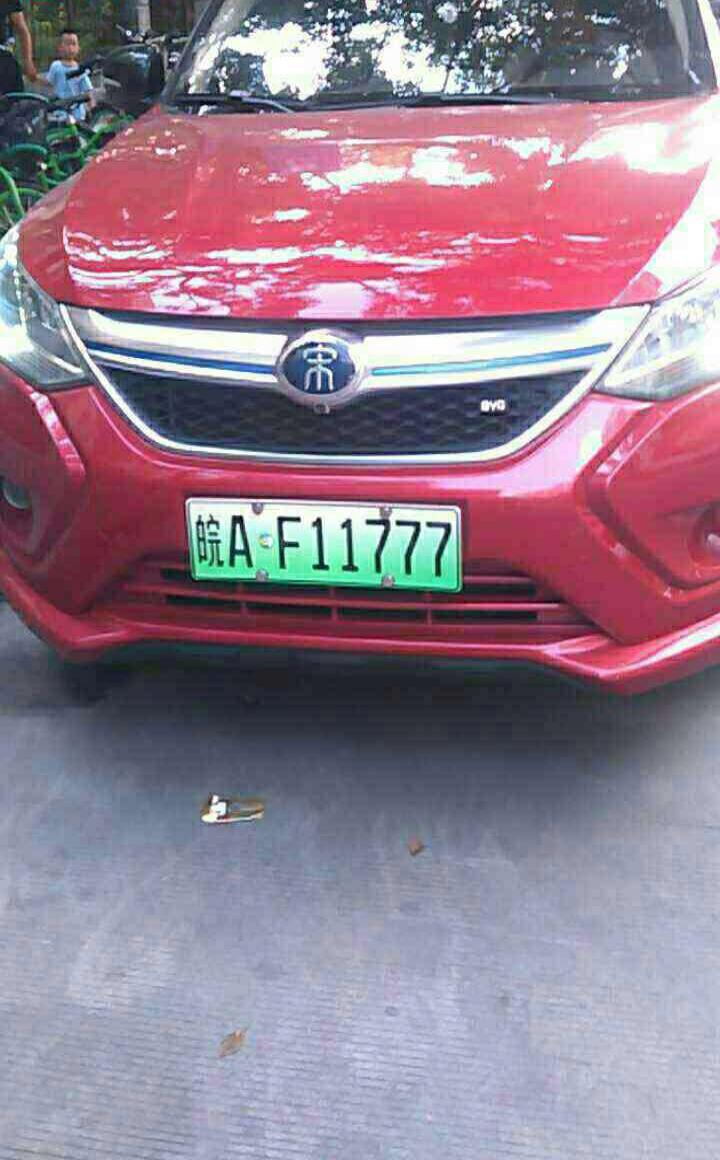car_id: (187, 499, 463, 584)
